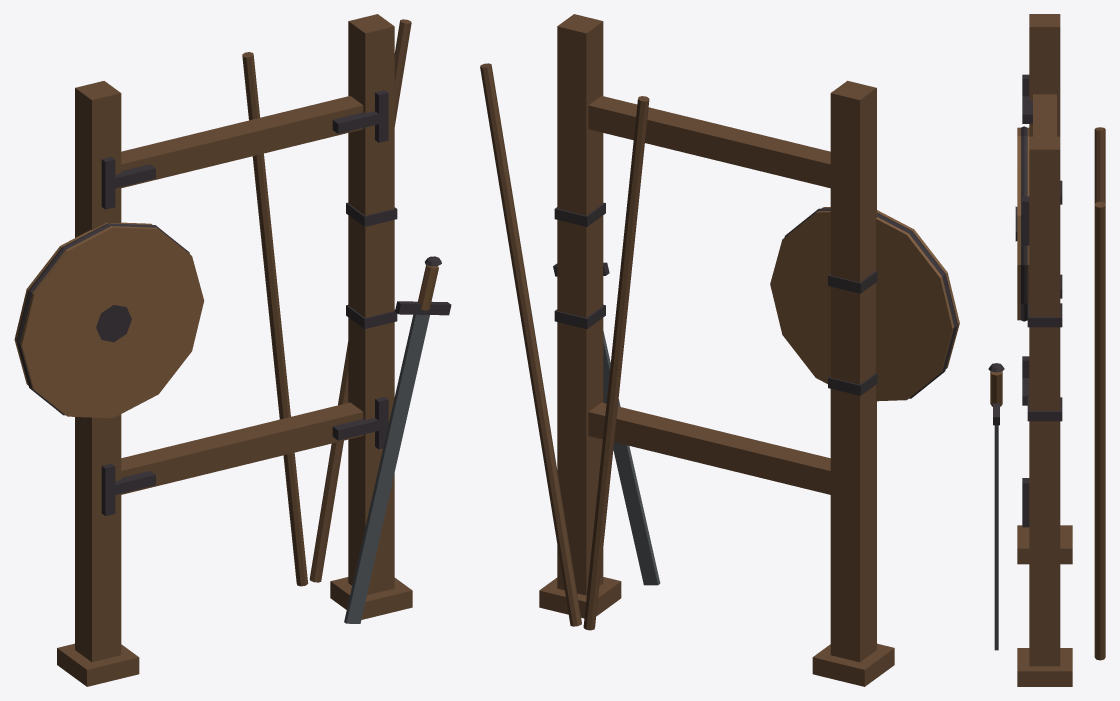
File: SM_Furn_WeaponRack_03.glb
3 views of the same model, side by side, from view 1: azimuth 30°, elevation 25°; view 2: azimuth 150°, elevation 25°; view 3: azimuth 270°, elevation 25° (orthographic). The views are drawn at different scales.
Visible parts, largest first — view 1: SM_Furn_WeaponRack_03_Shield, SM_Furn_WeaponRack_03_Post1, SM_Furn_WeaponRack_03_Post0, SM_Furn_WeaponRack_03_Crossbar0, SM_Furn_WeaponRack_03_Crossbar1, SM_Furn_WeaponRack_03_Spear1, SM_Furn_WeaponRack_03_SwordBlade, SM_Furn_WeaponRack_03_Spear0, SM_Furn_WeaponRack_03_Foot0, SM_Furn_WeaponRack_03_Foot1, SM_Furn_WeaponRack_03_ShieldRim, SM_Furn_WeaponRack_03_ShieldBoss (+6 smaller); view 2: SM_Furn_WeaponRack_03_Post0, SM_Furn_WeaponRack_03_Post1, SM_Furn_WeaponRack_03_Shield, SM_Furn_WeaponRack_03_Crossbar0, SM_Furn_WeaponRack_03_Crossbar1, SM_Furn_WeaponRack_03_Spear0, SM_Furn_WeaponRack_03_Spear1, SM_Furn_WeaponRack_03_SwordBlade, SM_Furn_WeaponRack_03_Foot0, SM_Furn_WeaponRack_03_Foot1, SM_Furn_WeaponRack_03_ShieldRim; view 3: SM_Furn_WeaponRack_03_Post1, SM_Furn_WeaponRack_03_Spear0, SM_Furn_WeaponRack_03_Post0, SM_Furn_WeaponRack_03_Foot1, SM_Furn_WeaponRack_03_Shield, SM_Furn_WeaponRack_03_SwordBlade, SM_Furn_WeaponRack_03_ShieldRim, SM_Furn_WeaponRack_03_Crossbar1, SM_Furn_WeaponRack_03_Foot0, SM_Furn_WeaponRack_03_Spear1, SM_Furn_WeaponRack_03_Strap10, SM_Furn_WeaponRack_03_Strap11 (+5 smaller).
Boxes of the visible parts, x1=… form: SM_Furn_WeaponRack_03_Shield: x1=14, y1=222, x2=204, y2=418; SM_Furn_WeaponRack_03_Post1: x1=348, y1=14, x2=394, y2=594; SM_Furn_WeaponRack_03_Post0: x1=75, y1=81, x2=121, y2=662; SM_Furn_WeaponRack_03_Crossbar0: x1=121, y1=402, x2=363, y2=494; SM_Furn_WeaponRack_03_Crossbar1: x1=121, y1=96, x2=363, y2=188; SM_Furn_WeaponRack_03_Spear1: x1=242, y1=52, x2=308, y2=586; SM_Furn_WeaponRack_03_SwordBlade: x1=344, y1=314, x2=429, y2=623; SM_Furn_WeaponRack_03_Spear0: x1=309, y1=19, x2=411, y2=582; SM_Furn_WeaponRack_03_Foot0: x1=57, y1=643, x2=139, y2=686; SM_Furn_WeaponRack_03_Foot1: x1=330, y1=577, x2=412, y2=619; SM_Furn_WeaponRack_03_ShieldRim: x1=16, y1=223, x2=189, y2=415; SM_Furn_WeaponRack_03_ShieldBoss: x1=96, y1=305, x2=131, y2=342; SM_Furn_WeaponRack_03_Post0: x1=830, y1=80, x2=876, y2=662; SM_Furn_WeaponRack_03_Post1: x1=557, y1=14, x2=603, y2=595; SM_Furn_WeaponRack_03_Shield: x1=770, y1=207, x2=959, y2=401; SM_Furn_WeaponRack_03_Crossbar0: x1=588, y1=402, x2=830, y2=494; SM_Furn_WeaponRack_03_Crossbar1: x1=588, y1=96, x2=830, y2=188; SM_Furn_WeaponRack_03_Spear0: x1=480, y1=63, x2=581, y2=626; SM_Furn_WeaponRack_03_Spear1: x1=583, y1=96, x2=649, y2=630; SM_Furn_WeaponRack_03_SwordBlade: x1=603, y1=331, x2=660, y2=585; SM_Furn_WeaponRack_03_Foot0: x1=812, y1=643, x2=894, y2=686; SM_Furn_WeaponRack_03_Foot1: x1=539, y1=577, x2=621, y2=618; SM_Furn_WeaponRack_03_ShieldRim: x1=784, y1=208, x2=957, y2=398; SM_Furn_WeaponRack_03_Post1: x1=1029, y1=136, x2=1060, y2=666; SM_Furn_WeaponRack_03_Spear0: x1=1094, y1=201, x2=1105, y2=660; SM_Furn_WeaponRack_03_Post0: x1=1029, y1=14, x2=1060, y2=136; SM_Furn_WeaponRack_03_Foot1: x1=1017, y1=648, x2=1072, y2=686; SM_Furn_WeaponRack_03_Shield: x1=1017, y1=127, x2=1029, y2=320; SM_Furn_WeaponRack_03_SwordBlade: x1=994, y1=425, x2=998, y2=650; SM_Furn_WeaponRack_03_ShieldRim: x1=1021, y1=126, x2=1027, y2=321; SM_Furn_WeaponRack_03_Crossbar1: x1=1033, y1=94, x2=1056, y2=136; SM_Furn_WeaponRack_03_Foot0: x1=1017, y1=525, x2=1072, y2=564; SM_Furn_WeaponRack_03_Spear1: x1=1094, y1=127, x2=1105, y2=203; SM_Furn_WeaponRack_03_Strap10: x1=1027, y1=397, x2=1062, y2=421; SM_Furn_WeaponRack_03_Strap11: x1=1027, y1=303, x2=1062, y2=327.
Bounding box in the file's own units: 1.34 × 1.7 × 0.34.
